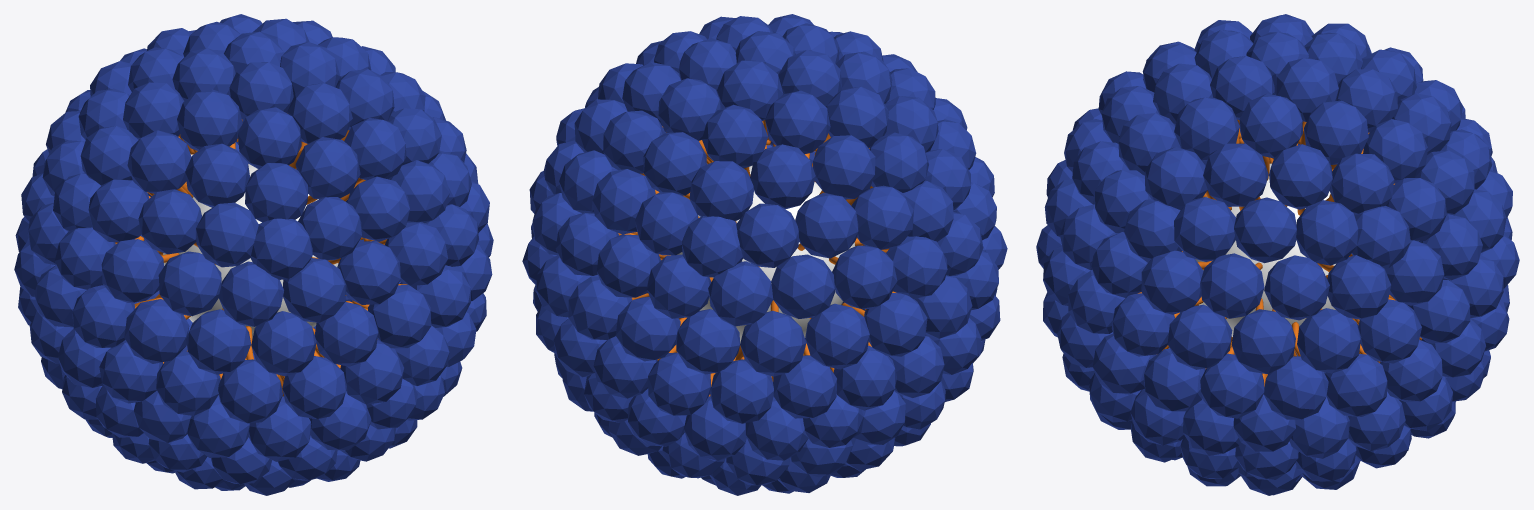
File: micelle-export-final.glb
The picture shows the model from 3 angles, left to right: view 1: azimuth 30°, elevation 25°; view 2: azimuth 150°, elevation 25°; view 3: azimuth 270°, elevation 25°; orthographic projection.
Parts seen in each view (by area): view 1: headsLeft, headsRight, contaminant, tailsRight, tailsLeft; view 2: headsLeft, headsRight, contaminant, tailsLeft, tailsRight; view 3: headsRight, headsLeft, contaminant, tailsRight.
Part boxes in pixels (<box>): headsLeft: <box>14,21,378,495</box>; headsRight: <box>163,14,493,487</box>; contaminant: <box>163,164,338,338</box>; tailsRight: <box>193,119,407,396</box>; tailsLeft: <box>115,134,284,379</box>; headsLeft: <box>615,23,1007,495</box>; headsRight: <box>522,14,865,485</box>; contaminant: <box>677,165,855,343</box>; tailsLeft: <box>709,120,896,396</box>; tailsRight: <box>618,121,817,360</box>; headsRight: <box>1043,56,1509,495</box>; headsLeft: <box>1036,14,1519,373</box>; contaminant: <box>1195,163,1335,336</box>; tailsRight: <box>1138,119,1421,386</box>.
Size of the model in its own units: 2.13 by 2.15 by 2.13.
